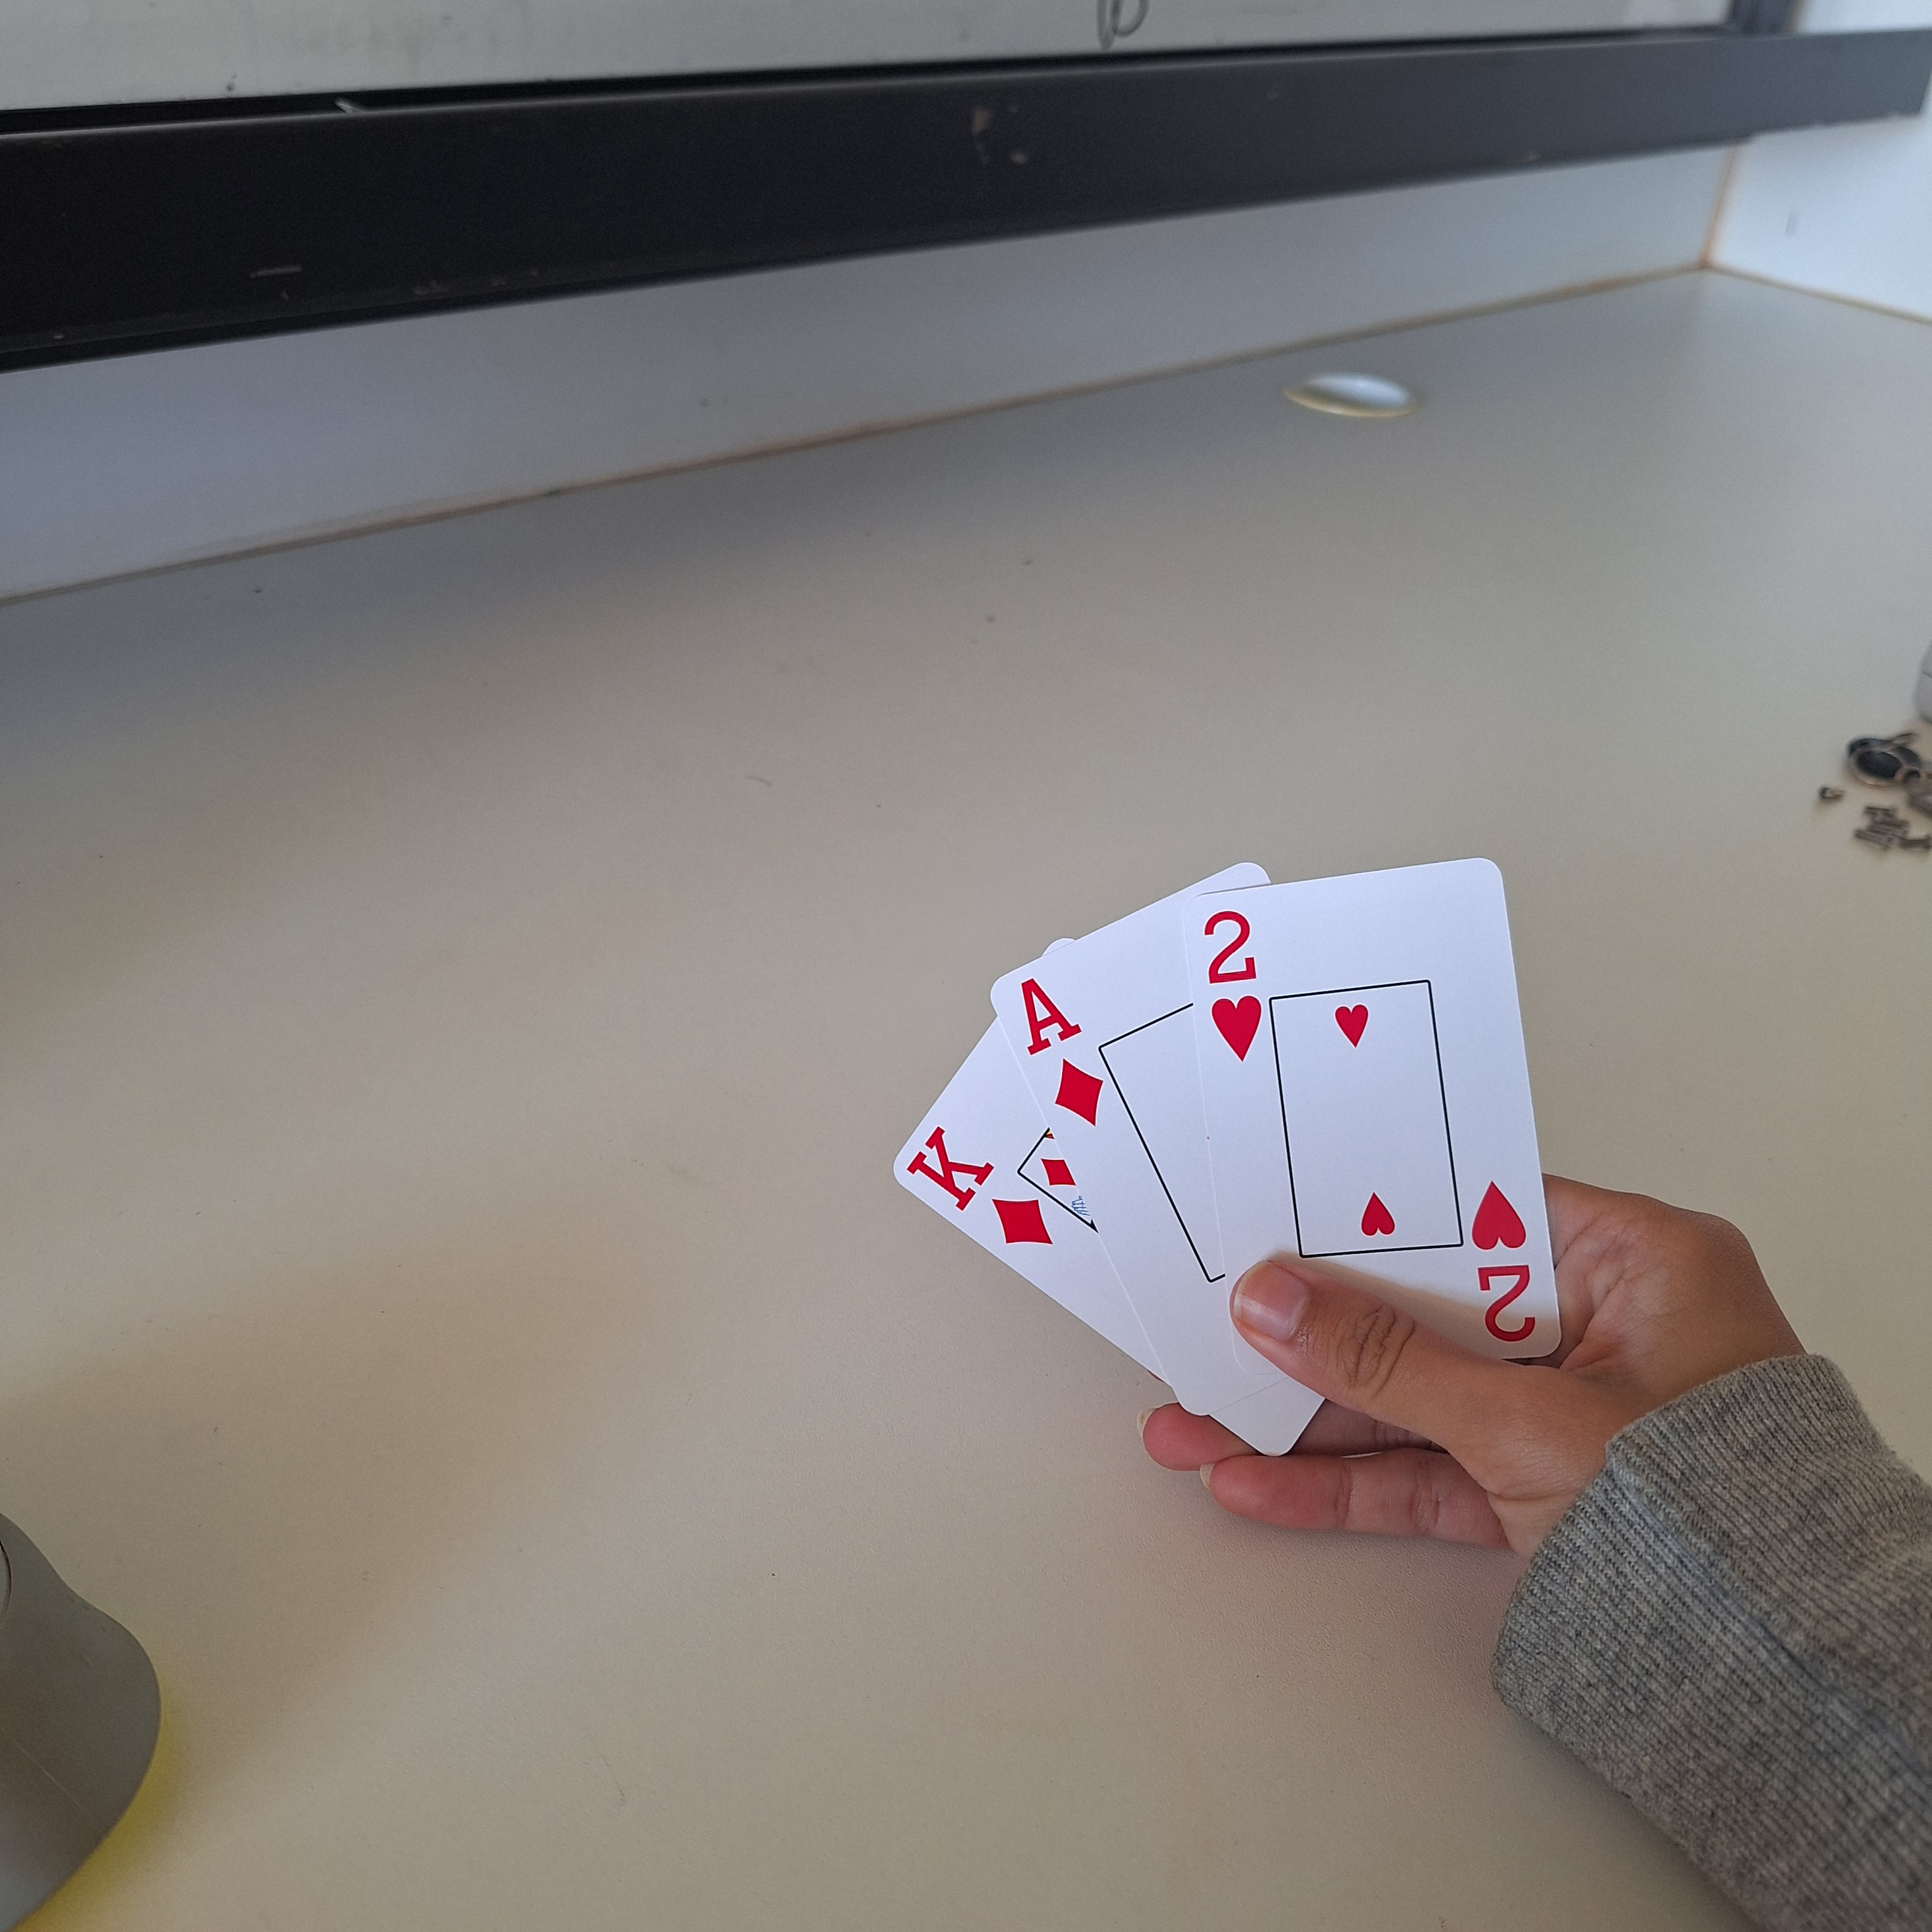2C: (1189, 897, 1276, 1072), (1467, 1175, 1546, 1346)
AO: (1012, 970, 1115, 1134)
KO: (901, 1120, 1058, 1265)
